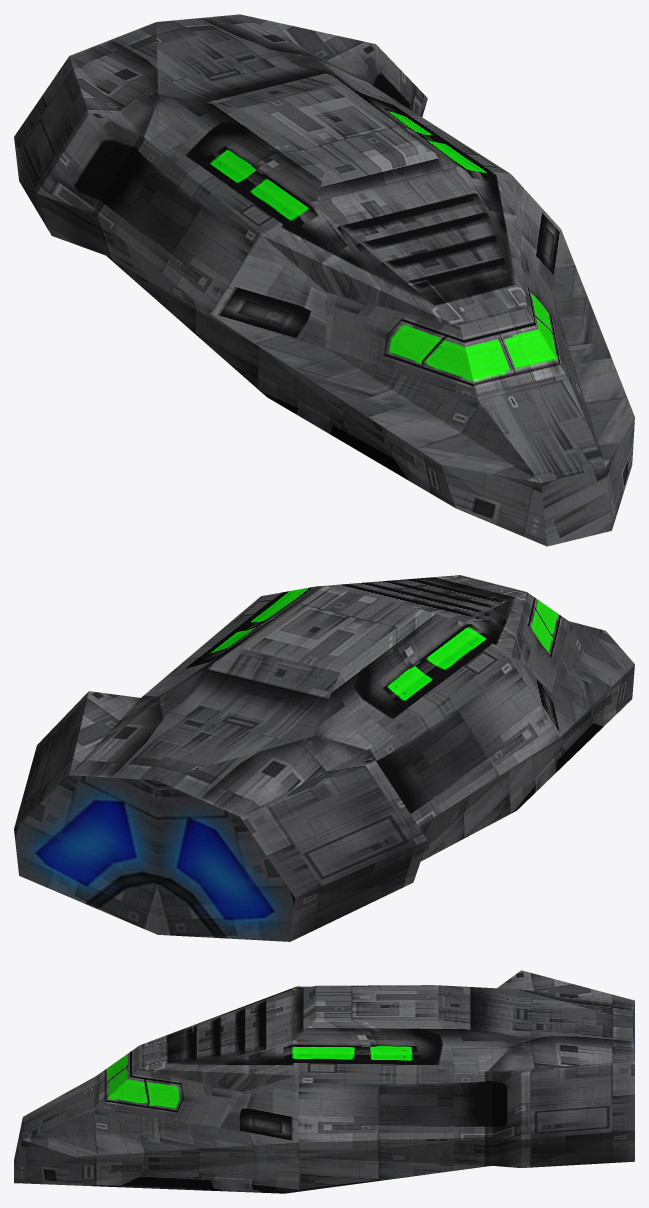
The model's file is ShipCraft01.FBX.
3 renders of one model, top to bottom at view 1: azimuth 30°, elevation 25°; view 2: azimuth 150°, elevation 25°; view 3: azimuth 270°, elevation 25°, orthographic. The views are drawn at different scales.
Parts seen in each view (by area): view 1: ShipCraft01; view 2: ShipCraft01; view 3: ShipCraft01.
Boxes of the visible parts, <box> form: ShipCraft01: <box>14,14,634,546</box>; ShipCraft01: <box>14,575,634,941</box>; ShipCraft01: <box>14,970,634,1193</box>.
Bounding box in the file's own units: 300 × 169 × 564.
1 material, 1 textured.
